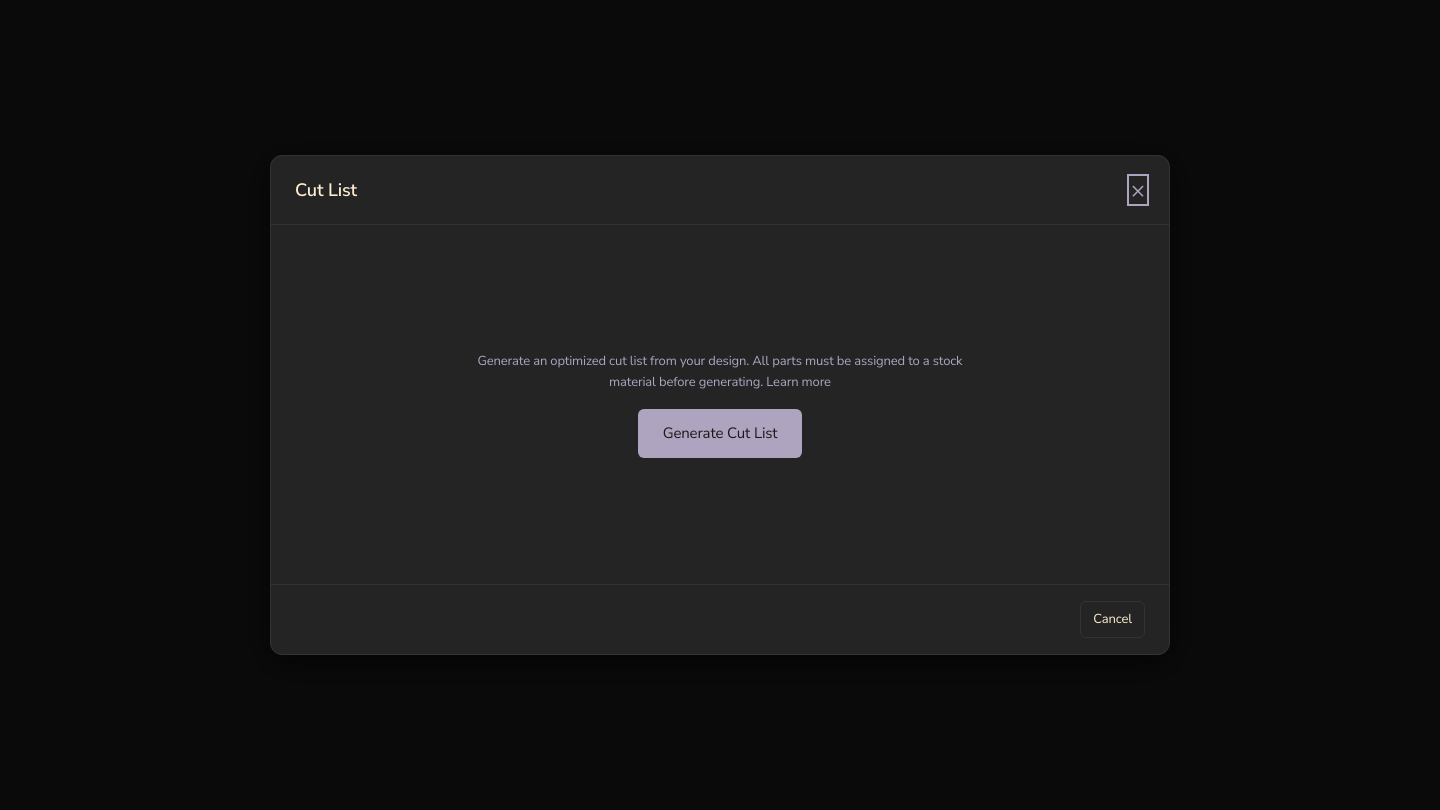
Test: CutListModal › validation issues › shows validation issues when parts have problems
This screenshot has width=1440, height=810.
Step 1. Click the button "Generate Cut List" → click(720, 433), box [638,409,802,458]
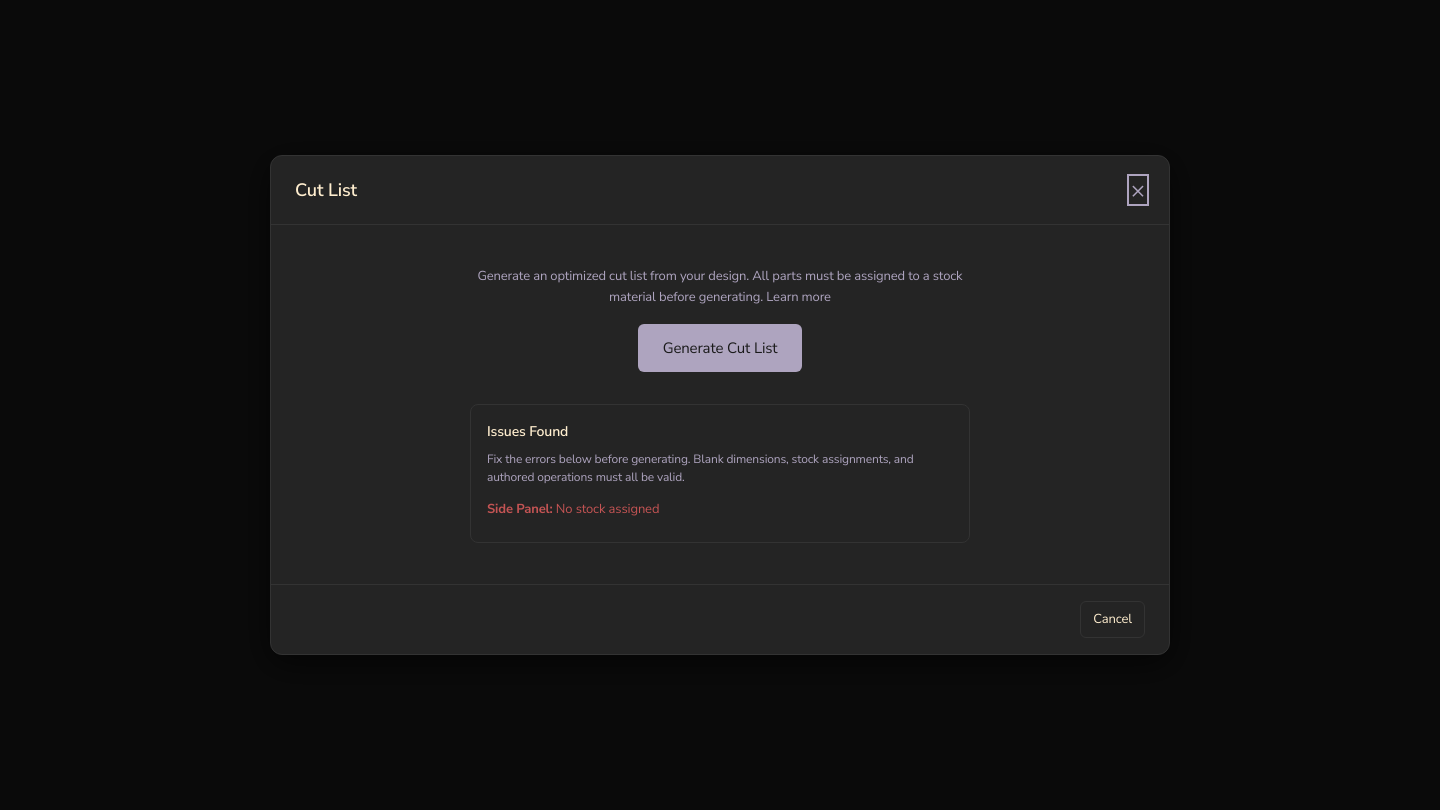
Check: the heading "Issues Found" is shown, box [487,422,568,441]
